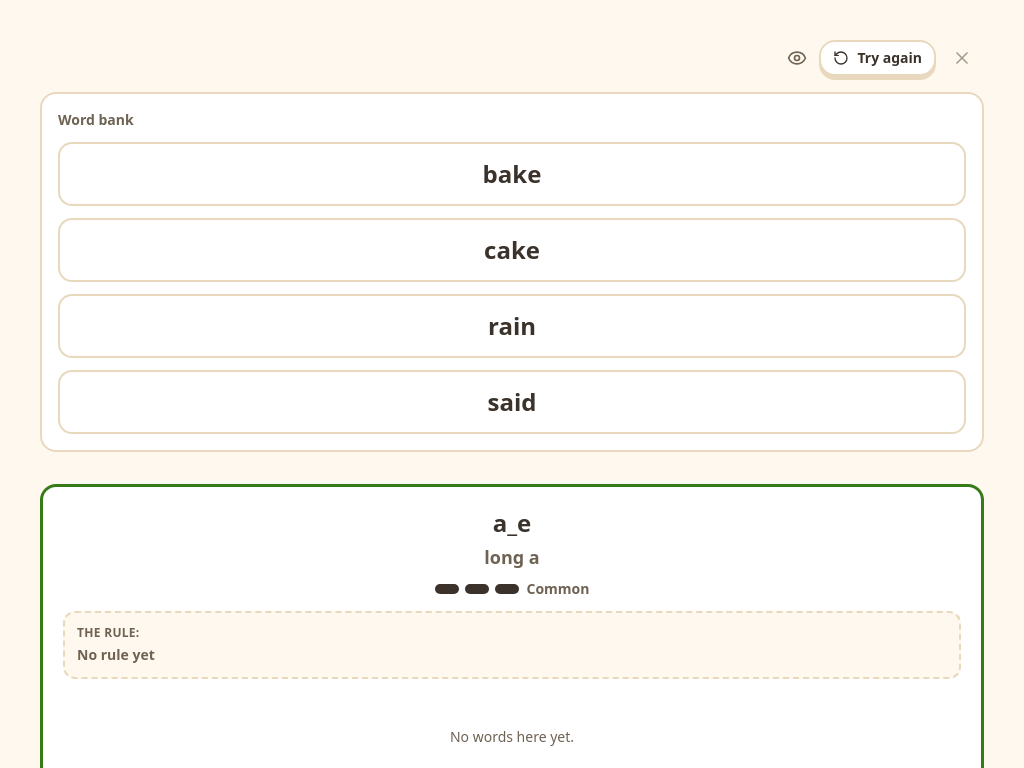
Test: SortActivity on mobile › switches selection to another word while the bar is open
The image size is (1024, 768).
Click the button with aria-label "Select the word cake" at (512, 250), box [58,218,966,282]
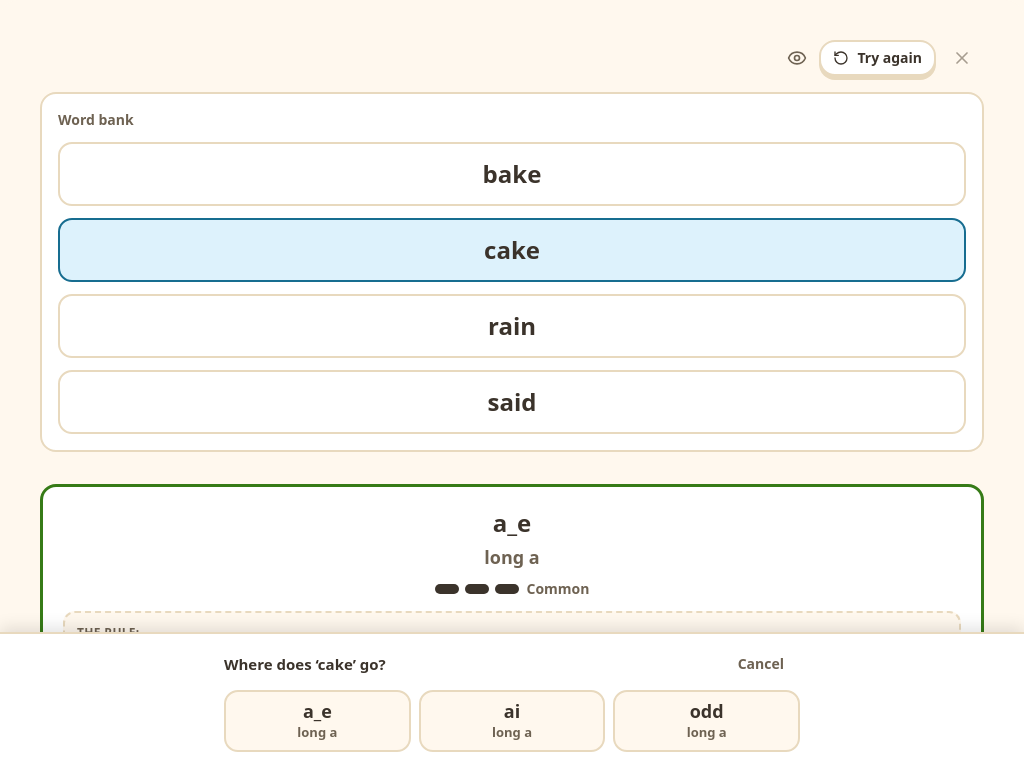
Click the button with aria-label "Select the word bake" at (512, 174), box [58,142,966,206]
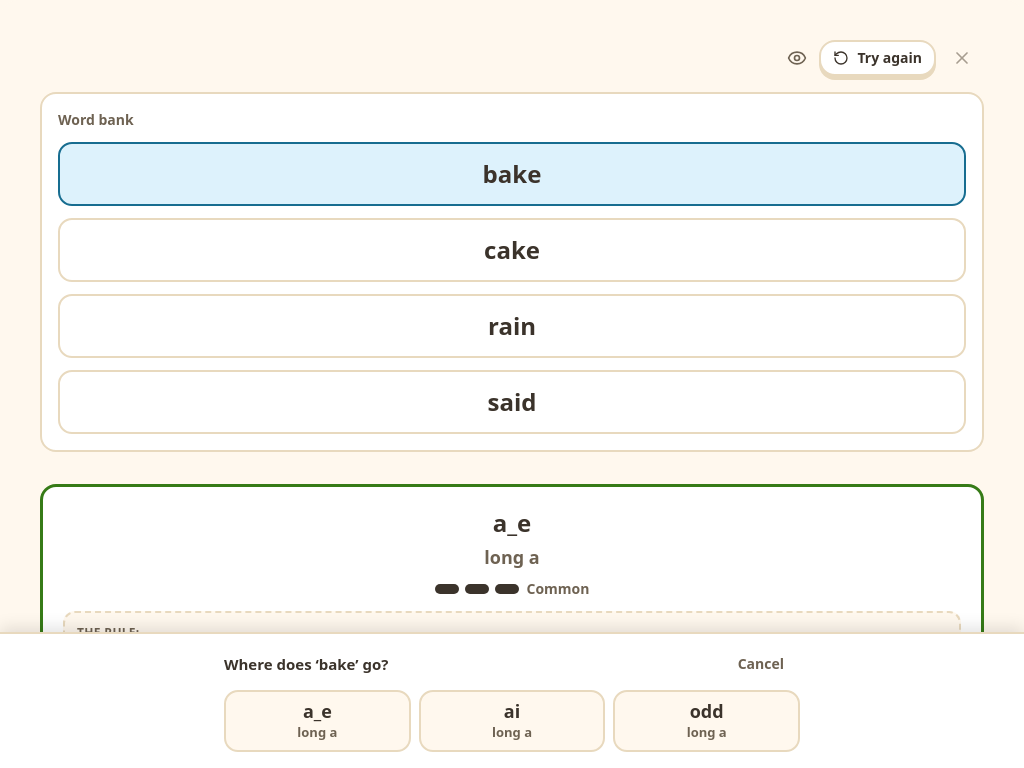
Check: the element named "Choose where to put bake" is shown, box [0,632,1023,767]
